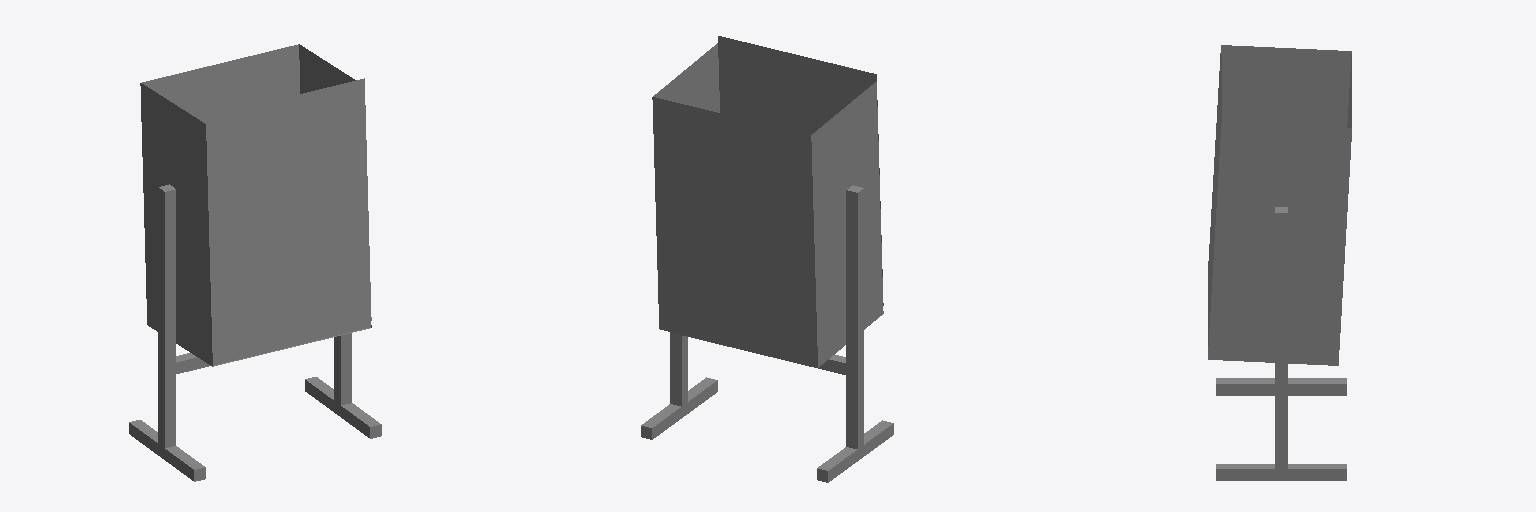
File: bote2.obj
The picture shows the model from 3 angles: view 1: azimuth 30°, elevation 25°; view 2: azimuth 150°, elevation 25°; view 3: azimuth 270°, elevation 25°; orthographic projection.
Parts seen in each view (by area): view 1: cara, cuerpo, patas; view 2: cuerpo, patas, cara; view 3: cuerpo, patas, cara.
Part boxes in pixels (x1,y1,x2,y2): cara: (206, 78, 371, 358); cuerpo: (140, 44, 371, 366); patas: (129, 184, 381, 481); cuerpo: (652, 43, 883, 367); patas: (641, 185, 893, 482); cara: (718, 36, 883, 305); cuerpo: (1208, 45, 1351, 365); patas: (1216, 207, 1346, 480); cara: (1208, 53, 1220, 338).
Bounding box in the file's own units: 0.33 × 0.605 × 0.2206.